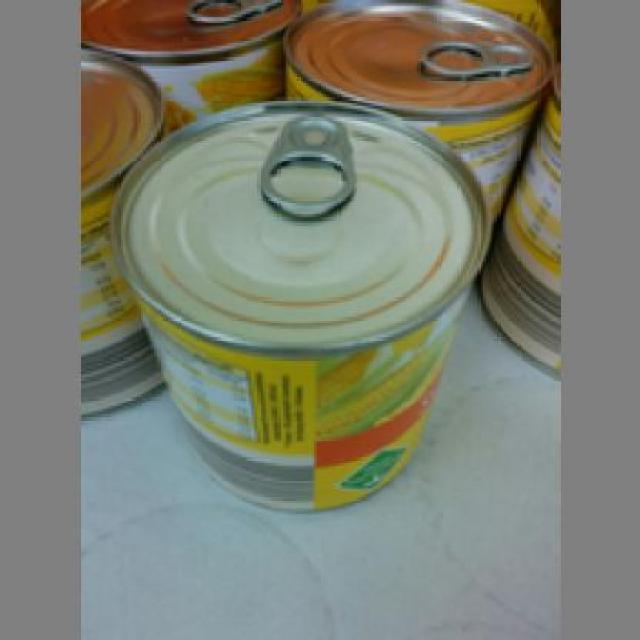Corn: (106, 94, 492, 514)
